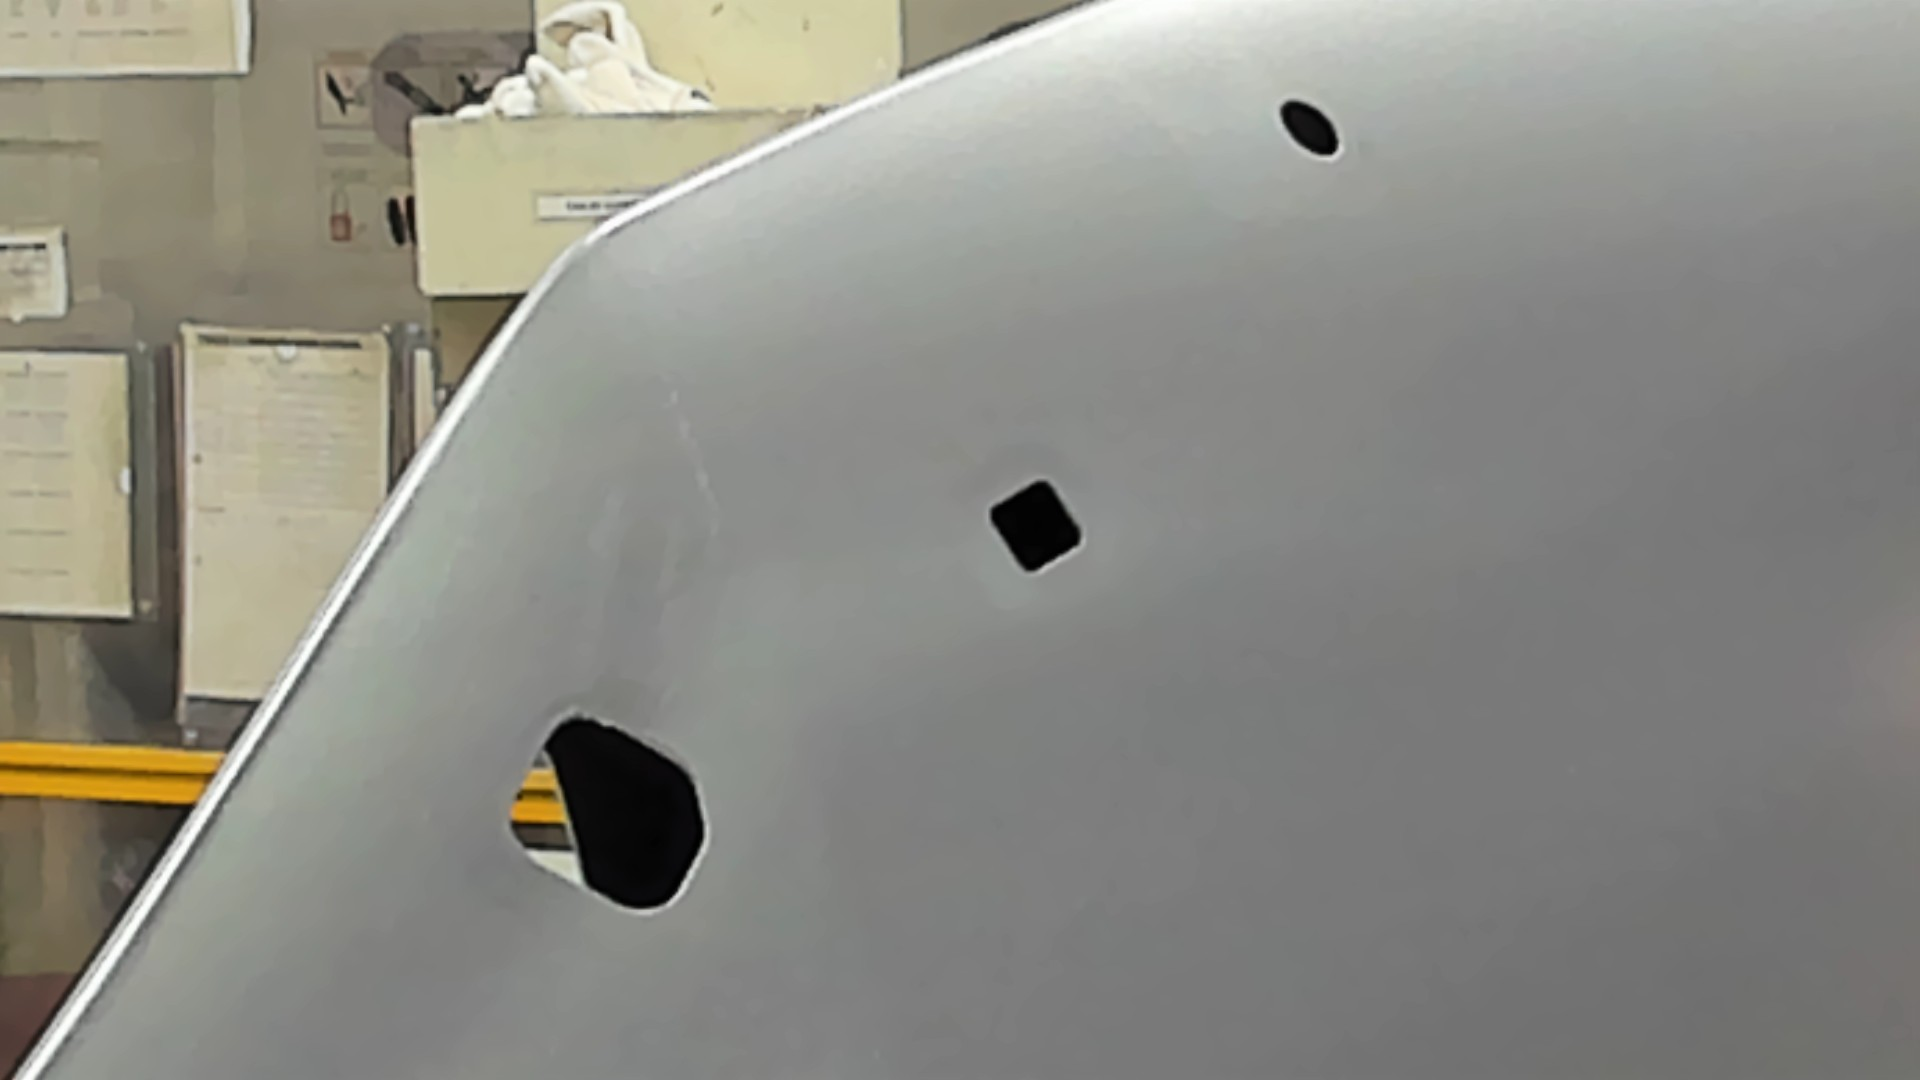chico: (1276, 95, 1344, 160)
grande: (506, 708, 712, 918)
mediano: (986, 476, 1085, 576)
